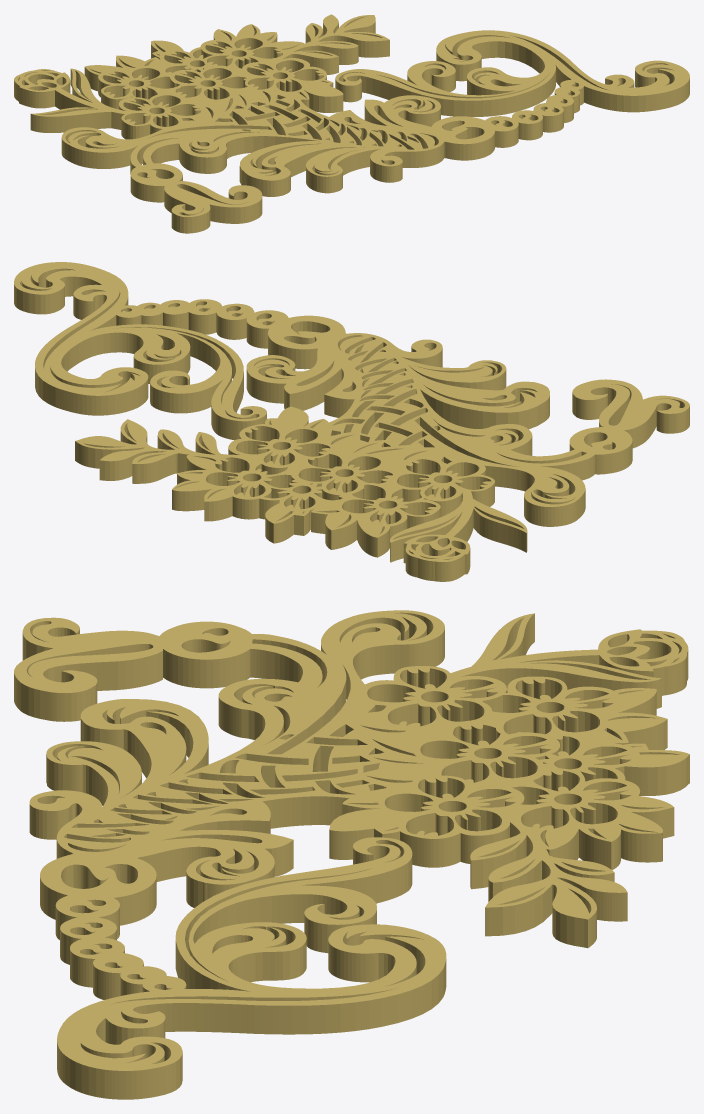
Rendered from Copy of gold decoration.glb.
3 views of the same model, one above another, from view 1: azimuth 30°, elevation 25°; view 2: azimuth 150°, elevation 25°; view 3: azimuth 270°, elevation 25° (orthographic). The views are drawn at different scales.
Parts seen in each view (by area): view 1: Mesh_Mesh_head_geo.001_lambert2SG.001; view 2: Mesh_Mesh_head_geo.001_lambert2SG.001; view 3: Mesh_Mesh_head_geo.001_lambert2SG.001.
Part boxes in pixels (x1,y1,x2,y2): Mesh_Mesh_head_geo.001_lambert2SG.001: [14, 14, 689, 233]; Mesh_Mesh_head_geo.001_lambert2SG.001: [14, 262, 689, 581]; Mesh_Mesh_head_geo.001_lambert2SG.001: [14, 610, 689, 1099].
Bounding box in the file's own units: 0.1721 × 0.005 × 0.1067.
